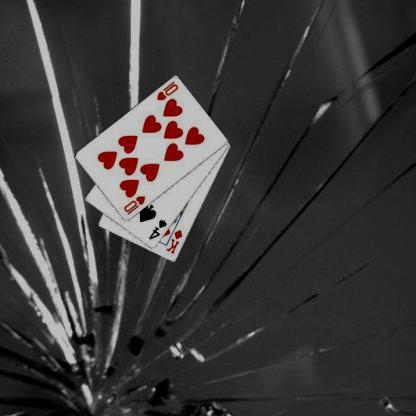10H: (154, 79, 179, 102), (121, 194, 146, 216)
4S: (146, 217, 168, 241)
KD: (164, 227, 184, 255)
